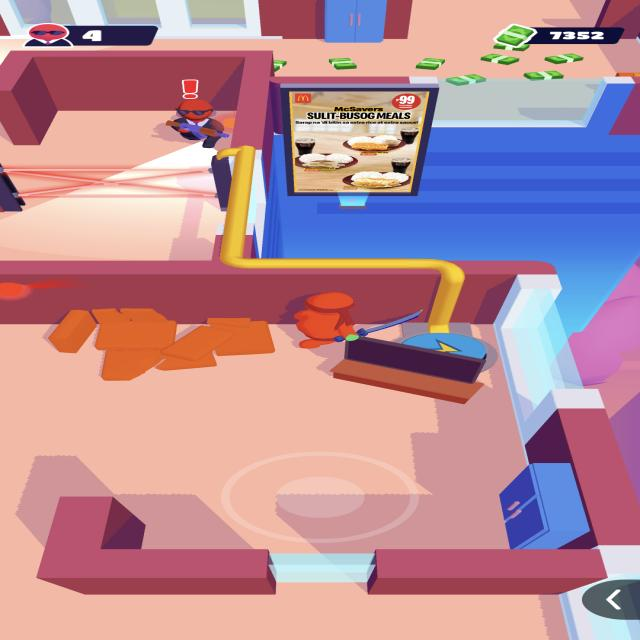billboard: (284, 88, 436, 196)
